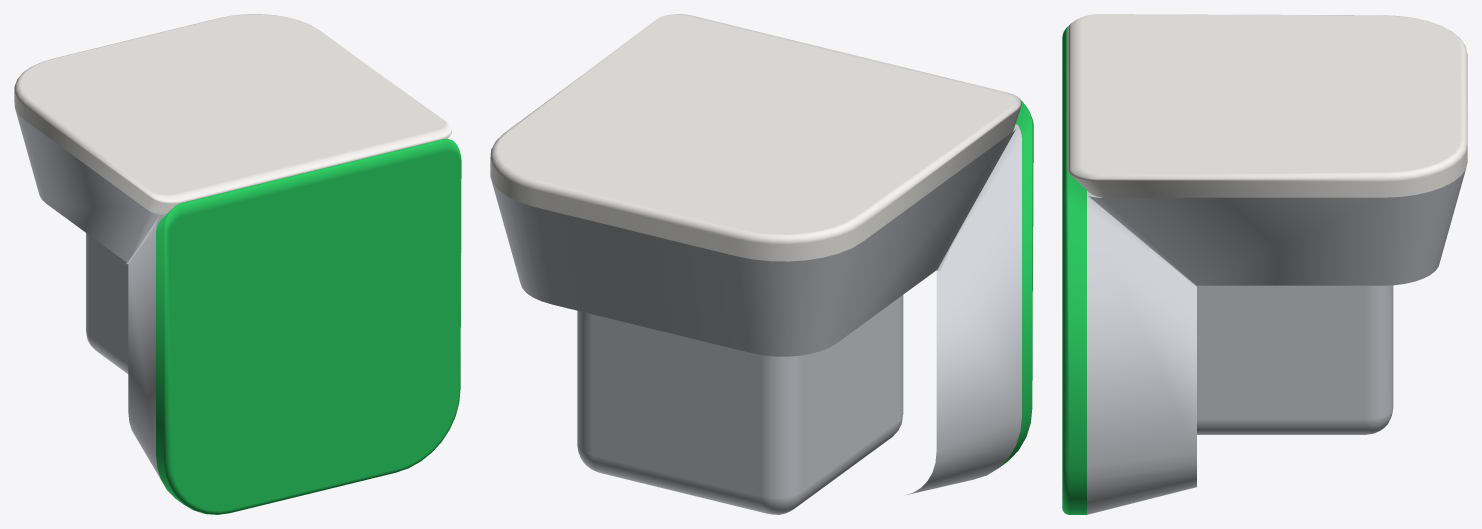
The model's file is ganI4-edge.gltf.
3 views of the same model, side by side, from view 1: azimuth 30°, elevation 25°; view 2: azimuth 150°, elevation 25°; view 3: azimuth 270°, elevation 25° (orthographic). The views are drawn at different scales.
Bounding box in the file's own units: 0.9702 × 1.02 × 1.02.
